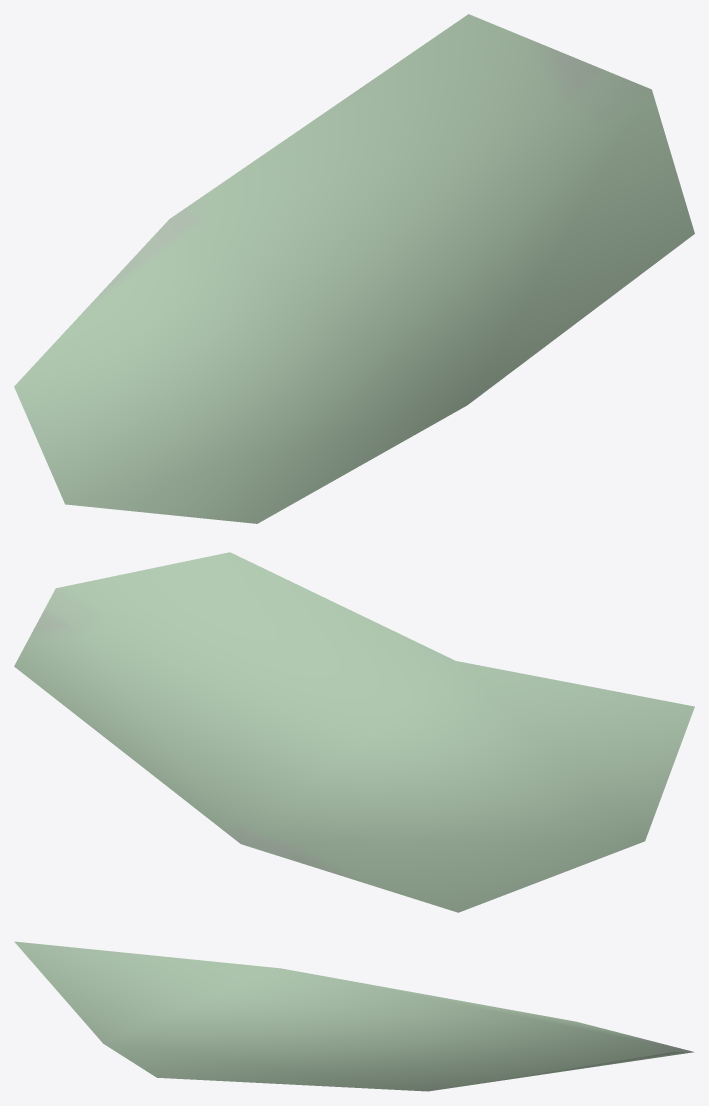
File: TROLLHOLE02_HOLECAP178.fbx
3 renders of one model, top to bottom at view 1: azimuth 30°, elevation 25°; view 2: azimuth 150°, elevation 25°; view 3: azimuth 270°, elevation 25°, orthographic. The views are drawn at different scales.
Visible parts, largest first — view 1: TROLLHOLE02_HOLECAP178; view 2: TROLLHOLE02_HOLECAP178; view 3: TROLLHOLE02_HOLECAP178.
Part boxes in pixels (<box>): TROLLHOLE02_HOLECAP178: <box>14,14,694,523</box>; TROLLHOLE02_HOLECAP178: <box>14,552,694,912</box>; TROLLHOLE02_HOLECAP178: <box>14,941,694,1091</box>.
Bounding box in the file's own units: 31431 × 9871 × 26863.
Materials: 1 (1 with a texture image).
